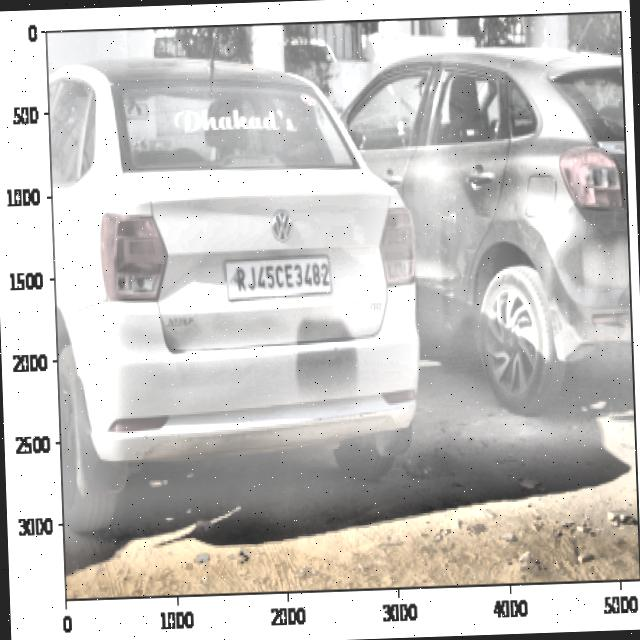license_plate: (229, 254, 332, 294)
